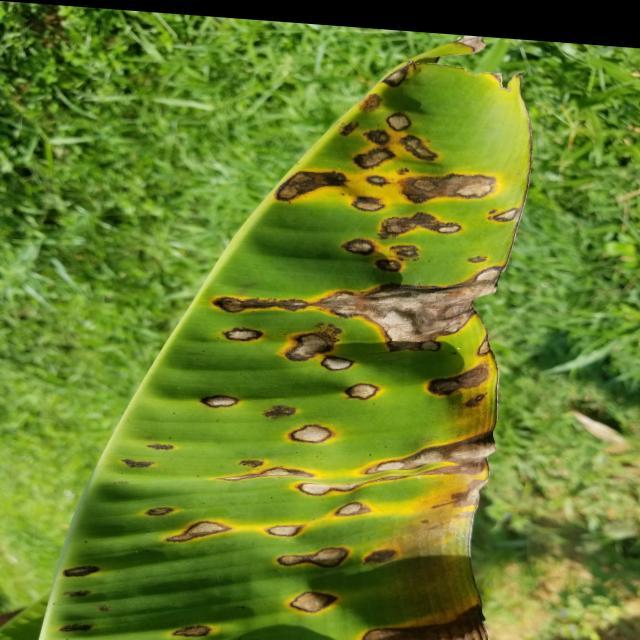Early_rust: (31, 12, 555, 640)
